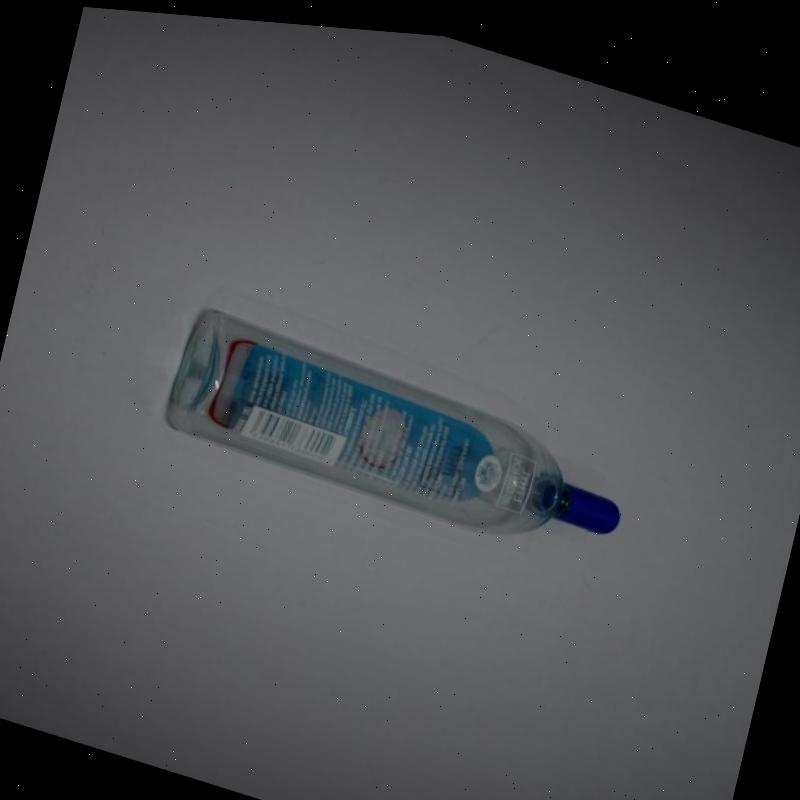botella: (159, 293, 639, 562)
